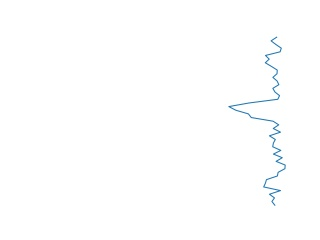interdistributaryEstuary: (227, 37, 292, 203)
